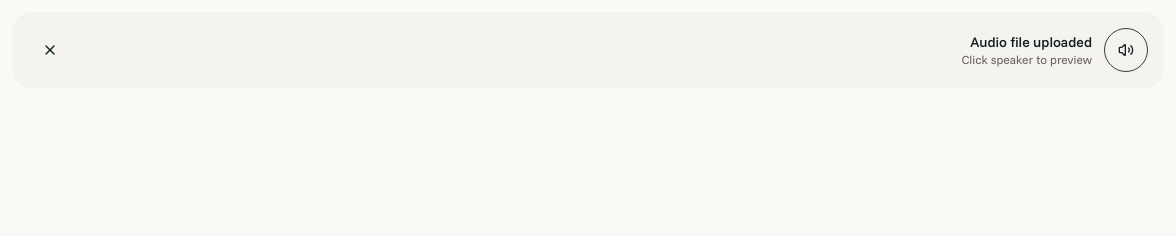
Test: once there is audio › throws it away
The width and height of the screenshot is (1176, 236).
Click the 1st button at point(50, 50), box x1=28 y1=28 x2=72 y2=72
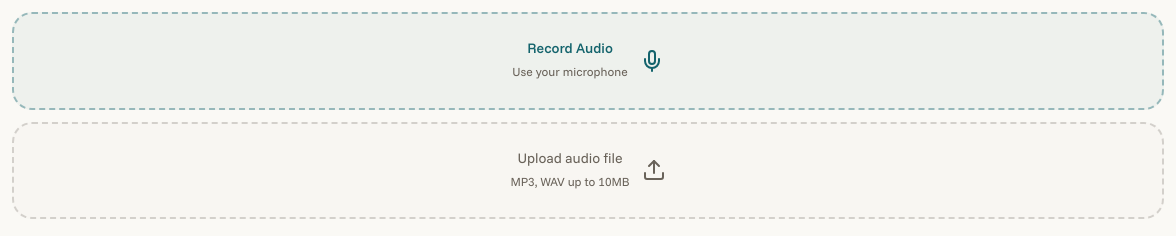
Result: the text "Record Audio" is shown at x1=527 y1=39 x2=613 y2=57
